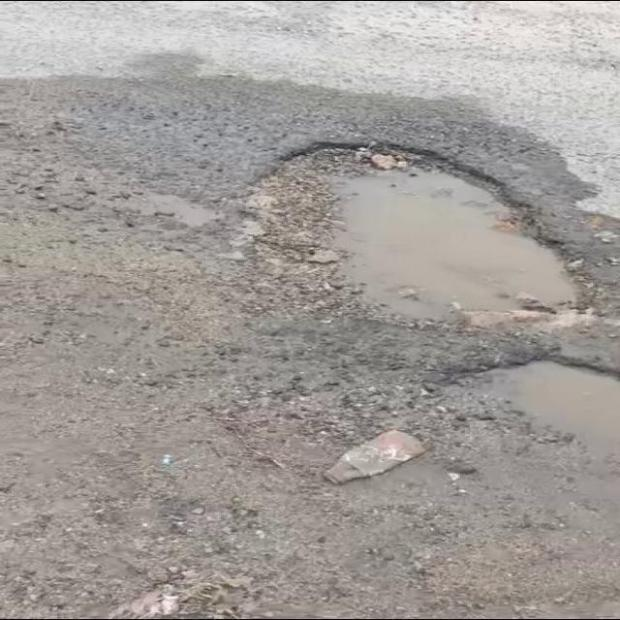lubang: (241, 148, 619, 332), (420, 362, 619, 528)
